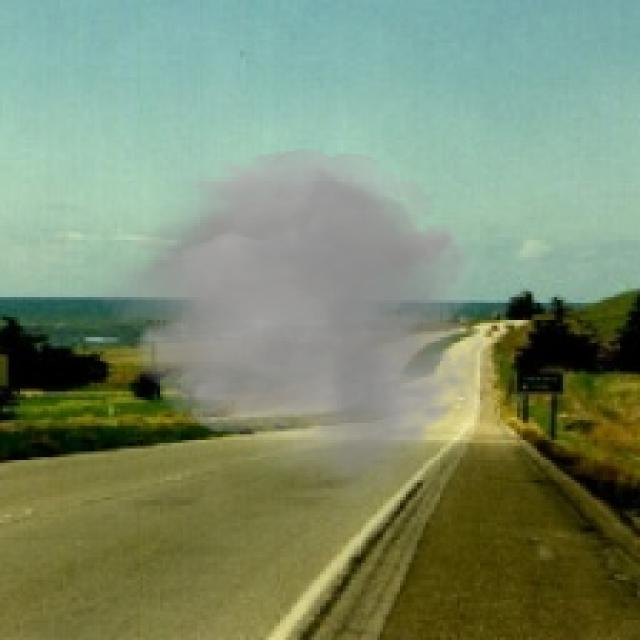smoke: (83, 140, 508, 506)
